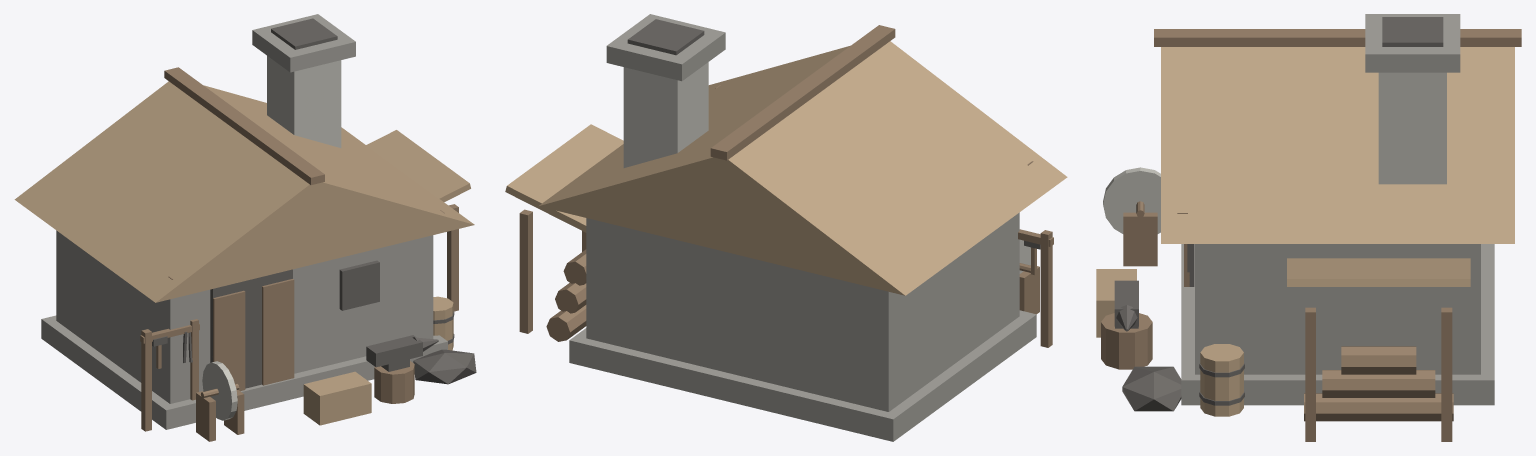
Rendered from era1-smith-DiiC0YXT.glb.
3 renders of one model, left to right at view 1: azimuth 30°, elevation 25°; view 2: azimuth 150°, elevation 25°; view 3: azimuth 270°, elevation 25°, orthographic. The views are drawn at different scales.
Visible parts, largest first — view 1: Smith_Roof, Smith_Walls, Smith_Footing, Smith_ChimneyHigh, Smith_Ridge, Smith_DoorR, Smith_LeantoRoof, Smith_Trough, Smith_ChimneyCap, Smith_DoorRecess, Smith_DoorL, Smith_CoalPile (+11 smaller); view 2: Smith_Roof, Smith_Walls, Smith_Footing, Smith_ChimneyHigh, Smith_LeantoRoof, Smith_Ridge, Smith_ChimneyCap, Smith_LeantoPostB, Smith_ChimneySoot, Smith_RackPostL, Smith_LogA3, Smith_GrindLegL (+2 smaller); view 3: Smith_Roof, Smith_Walls, Smith_ChimneyHigh, Smith_Footing, Smith_LeantoRoof, Smith_Ridge, Smith_ChimneyCap, Smith_Barrel, Smith_Grindstone, Smith_CoalPile, Smith_Stump, Smith_LogC1 (+11 smaller).
Boxes of the visible parts, left/top/right/bottom form: Smith_Roof: left=14, top=81, right=474, bottom=302; Smith_Walls: left=56, top=230, right=433, bottom=403; Smith_Footing: left=41, top=315, right=447, bottom=429; Smith_ChimneyHigh: left=267, top=56, right=341, bottom=147; Smith_Ridge: left=164, top=67, right=324, bottom=184; Smith_DoorR: left=262, top=279, right=294, bottom=385; Smith_LeantoRoof: left=366, top=130, right=470, bottom=202; Smith_Trough: left=303, top=371, right=371, bottom=425; Smith_ChimneyCap: left=252, top=14, right=355, bottom=72; Smith_DoorRecess: left=210, top=269, right=292, bottom=388; Smith_DoorL: left=212, top=290, right=245, bottom=391; Smith_CoalPile: left=413, top=349, right=476, bottom=384; Smith_Roof: left=538, top=41, right=1067, bottom=295; Smith_Walls: left=586, top=212, right=1019, bottom=411; Smith_Footing: left=569, top=310, right=1036, bottom=441; Smith_ChimneyHigh: left=623, top=62, right=708, bottom=167; Smith_LeantoRoof: left=505, top=124, right=623, bottom=232; Smith_Ridge: left=710, top=25, right=895, bottom=160; Smith_ChimneyCap: left=606, top=14, right=725, bottom=81; Smith_LeantoPostB: left=519, top=209, right=532, bottom=333; Smith_ChimneySoot: left=627, top=19, right=704, bottom=55; Smith_RackPostL: left=1040, top=230, right=1052, bottom=347; Smith_LogA3: left=546, top=308, right=586, bottom=341; Smith_GrindLegL: left=1019, top=266, right=1039, bottom=314; Smith_Roof: left=1161, top=47, right=1514, bottom=243; Smith_Walls: left=1195, top=244, right=1480, bottom=374; Smith_ChimneyHigh: left=1378, top=72, right=1446, bottom=184; Smith_Footing: left=1181, top=244, right=1494, bottom=405; Smith_LeantoRoof: left=1287, top=258, right=1470, bottom=286; Smith_Ridge: left=1154, top=29, right=1521, bottom=46; Smith_ChimneyCap: left=1365, top=14, right=1460, bottom=72; Smith_Barrel: left=1200, top=344, right=1243, bottom=416; Smith_Grindstone: left=1103, top=167, right=1160, bottom=233; Smith_CoalPile: left=1122, top=366, right=1181, bottom=411; Smith_Stump: left=1101, top=313, right=1152, bottom=369; Smith_LogC1: left=1341, top=346, right=1416, bottom=374.
Bounding box in the file's own units: 7.79 × 5.73 × 6.25.
